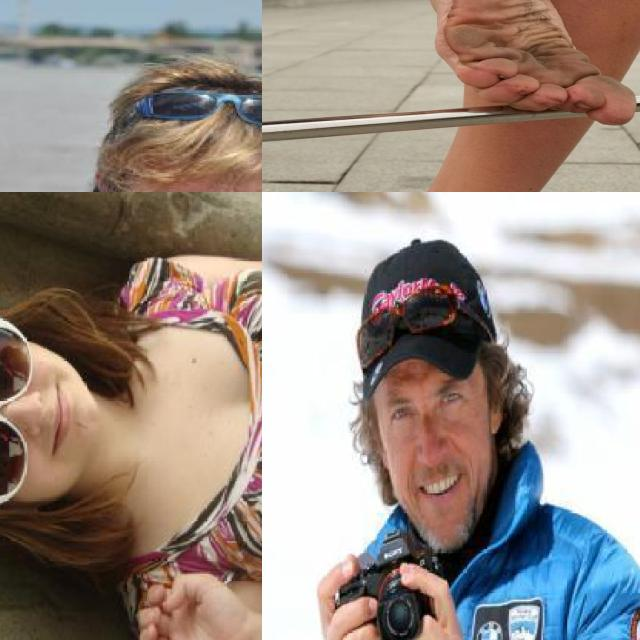Barefoots: (433, 0, 636, 125)
face_nomask: (0, 332, 110, 490), (371, 361, 479, 508)
glasses: (352, 284, 495, 372), (0, 319, 43, 525), (116, 82, 262, 133)
hand_noglove: (104, 563, 255, 640), (307, 551, 392, 640), (393, 557, 470, 640)
head_nohelmet: (337, 250, 518, 390), (102, 62, 262, 182)
person: (0, 47, 262, 192)
